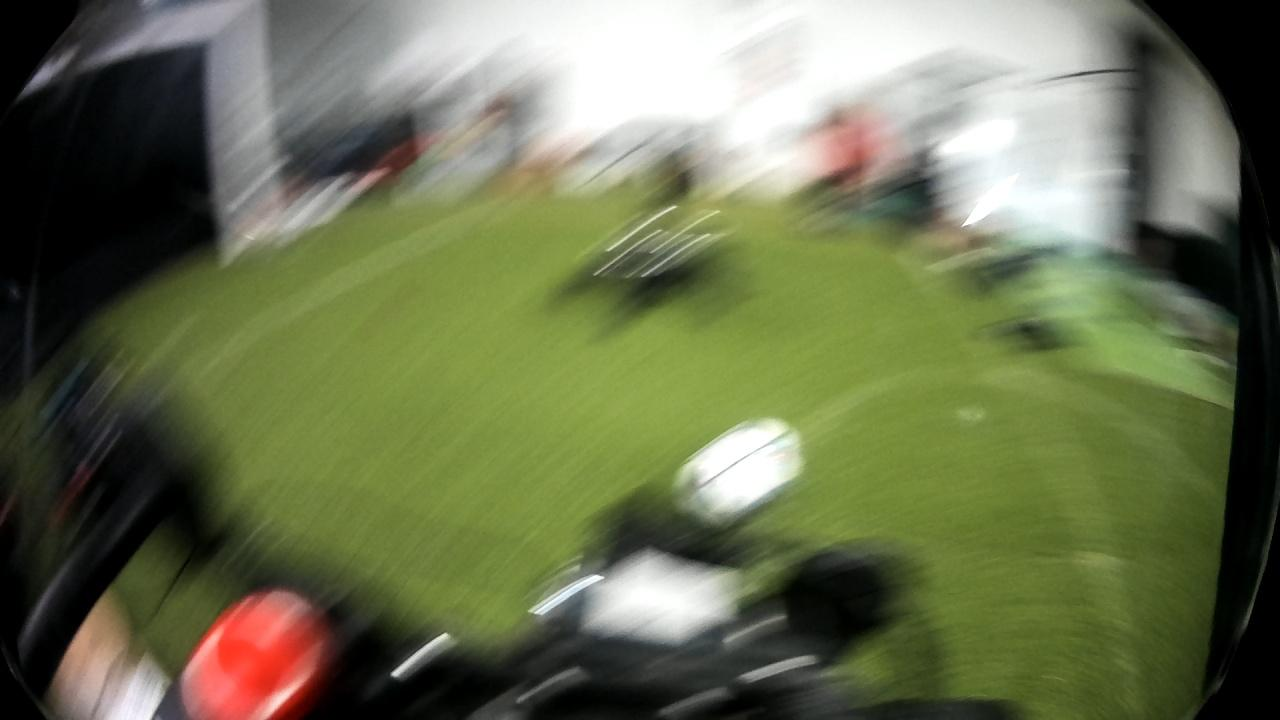ball: (690, 416, 805, 523)
